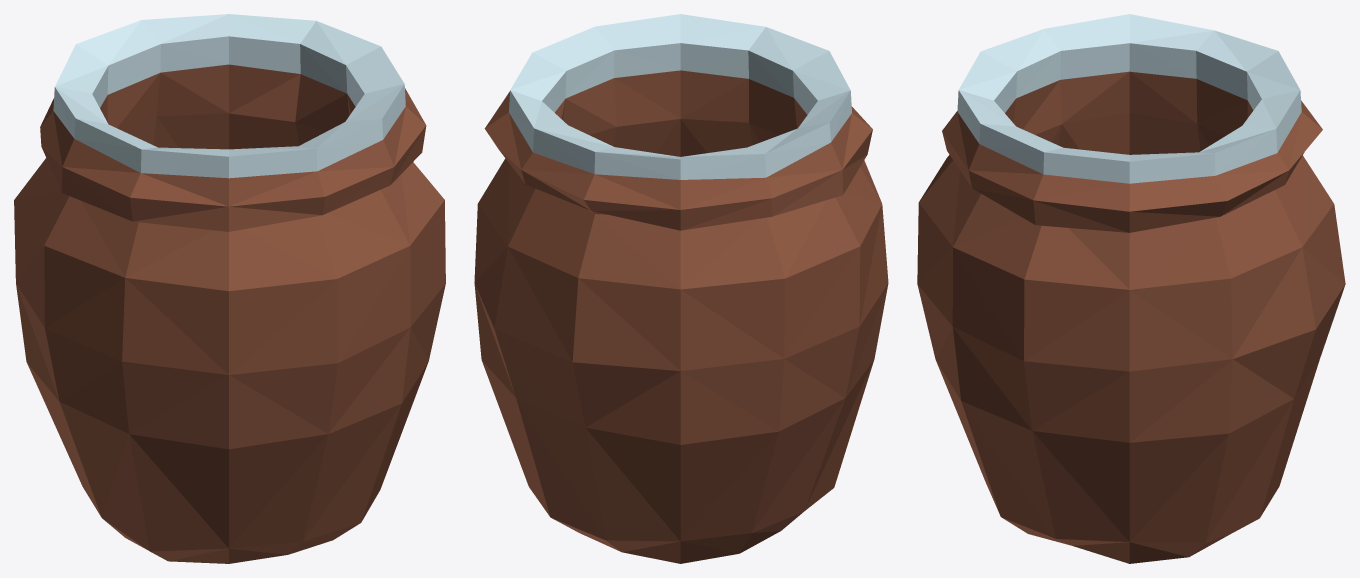
File: SM_Prop_Clay_Pot_02_Snow.fbx
The picture shows the model from 3 angles, left to right: view 1: azimuth 30°, elevation 25°; view 2: azimuth 150°, elevation 25°; view 3: azimuth 270°, elevation 25°; orthographic projection. The views are drawn at different scales.
Visible parts, largest first — view 1: SM_Prop_Clay_Pot_02_Snow; view 2: SM_Prop_Clay_Pot_02_Snow; view 3: SM_Prop_Clay_Pot_02_Snow.
Boxes of the visible parts, left/top/right/bottom form: SM_Prop_Clay_Pot_02_Snow: left=14, top=14, right=445, bottom=563; SM_Prop_Clay_Pot_02_Snow: left=474, top=14, right=888, bottom=563; SM_Prop_Clay_Pot_02_Snow: left=917, top=14, right=1345, bottom=563.
Bounding box in the file's own units: 58.62 × 66.52 × 60.4.
